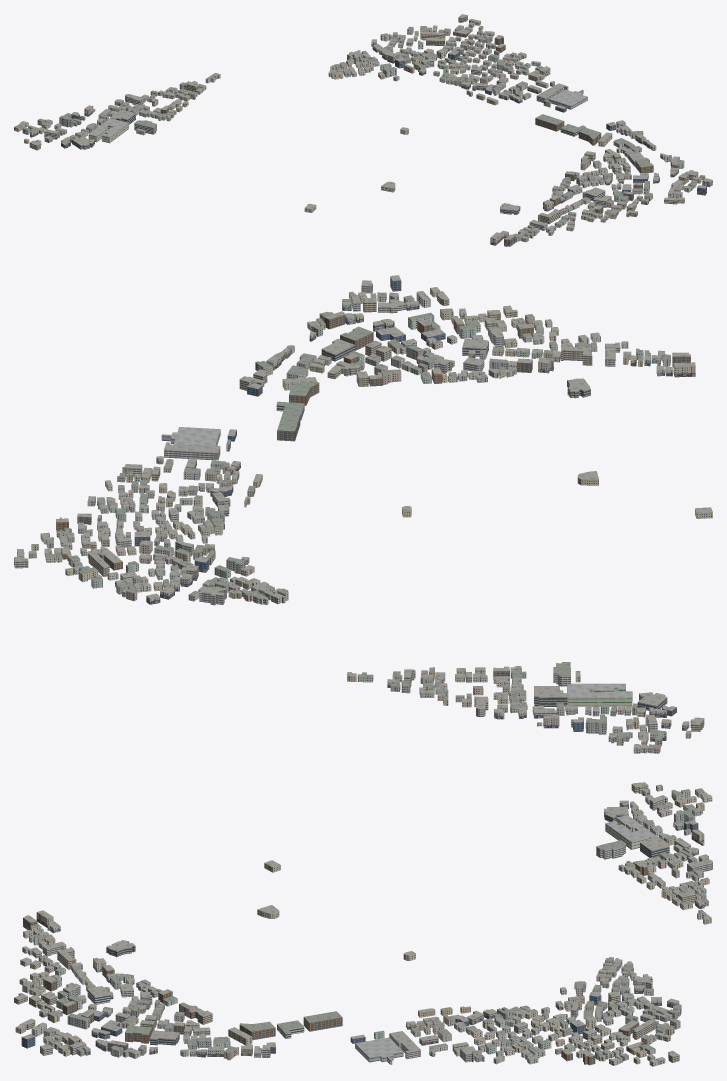
File: ArahaTown_Block_E01024_S03072.gltf
3 views of the same model, one above another, from view 1: azimuth 30°, elevation 25°; view 2: azimuth 150°, elevation 25°; view 3: azimuth 270°, elevation 25° (orthographic). The views are drawn at different scales.
Parts seen in each view (by area): view 1: ArahaTown_Block_E01024_S03072; view 2: ArahaTown_Block_E01024_S03072; view 3: ArahaTown_Block_E01024_S03072.
Boxes of the visible parts, <box> form: ArahaTown_Block_E01024_S03072: <box>14,14,712,246</box>; ArahaTown_Block_E01024_S03072: <box>14,275,712,753</box>; ArahaTown_Block_E01024_S03072: <box>14,782,712,1066</box>.
Bounding box in the file's own units: 1034 × 57 × 1042.
Materials: 20 (20 with a texture image).
